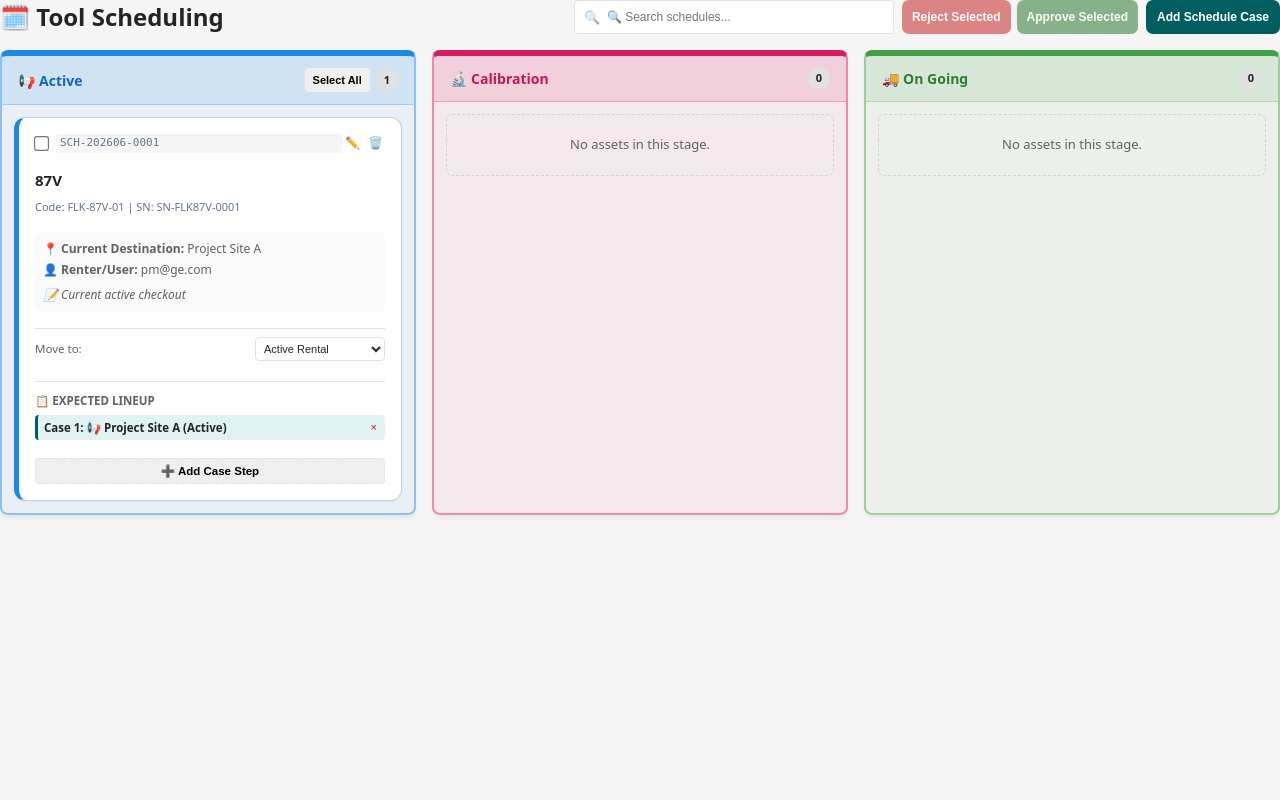
Test case: SchedulingTab Component › supports bulk select, project code, and relay scheduling in create modal
Check: the text "SCH-202606-0001" is shown, box [56,134,343,152]
Click the button "Add Schedule Case": (1213, 17) [1146,0,1279,34]
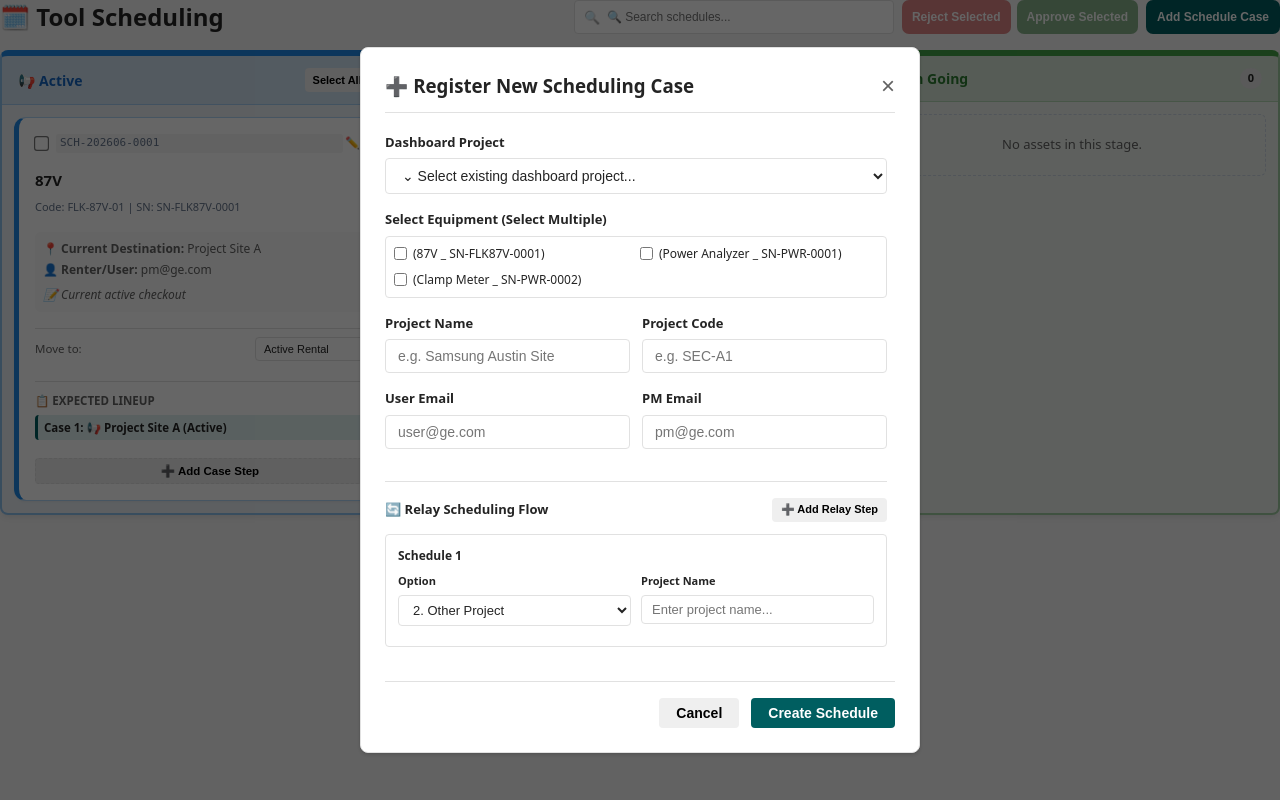
Check: the heading "➕ Register New Scheduling Case" is shown, box [385,72,694,100]
Check: the text "Select Equipment (Select Multiple)" is shown, box [385,210,607,228]
Check: the text "Project Code" is shown, box [642,314,724,332]
